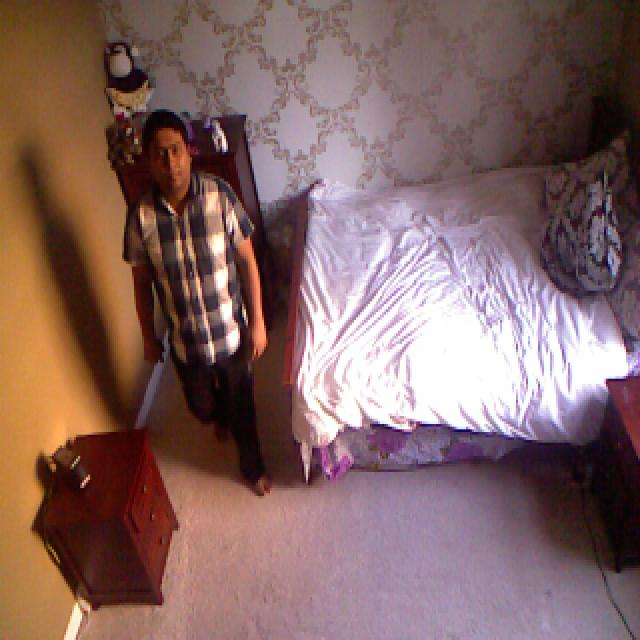standing: (115, 118, 302, 516)
